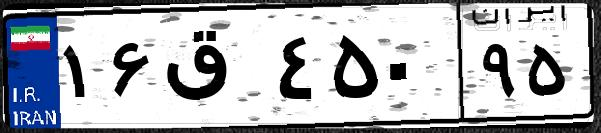0: (385, 28, 445, 110)
1: (57, 26, 110, 100)
4: (270, 28, 330, 110)
5: (330, 28, 385, 110), (525, 38, 570, 115)
6: (110, 28, 158, 98)
9: (475, 38, 525, 113)
ق: (158, 20, 270, 120)
